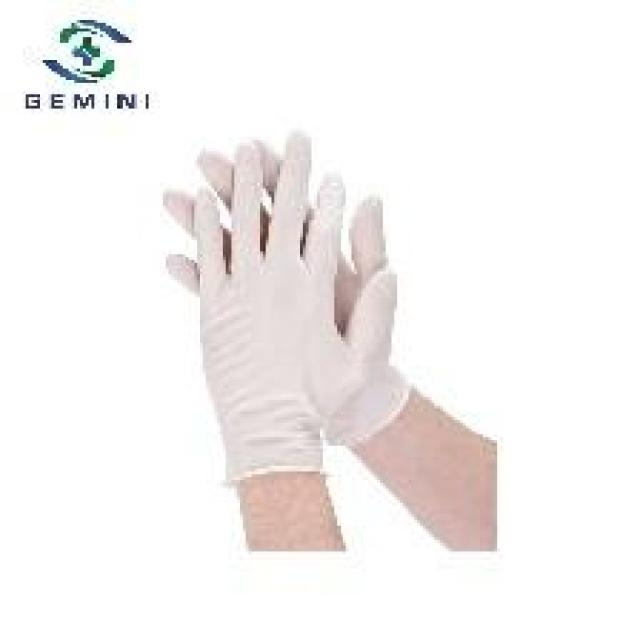Glove: (145, 158, 433, 479)
